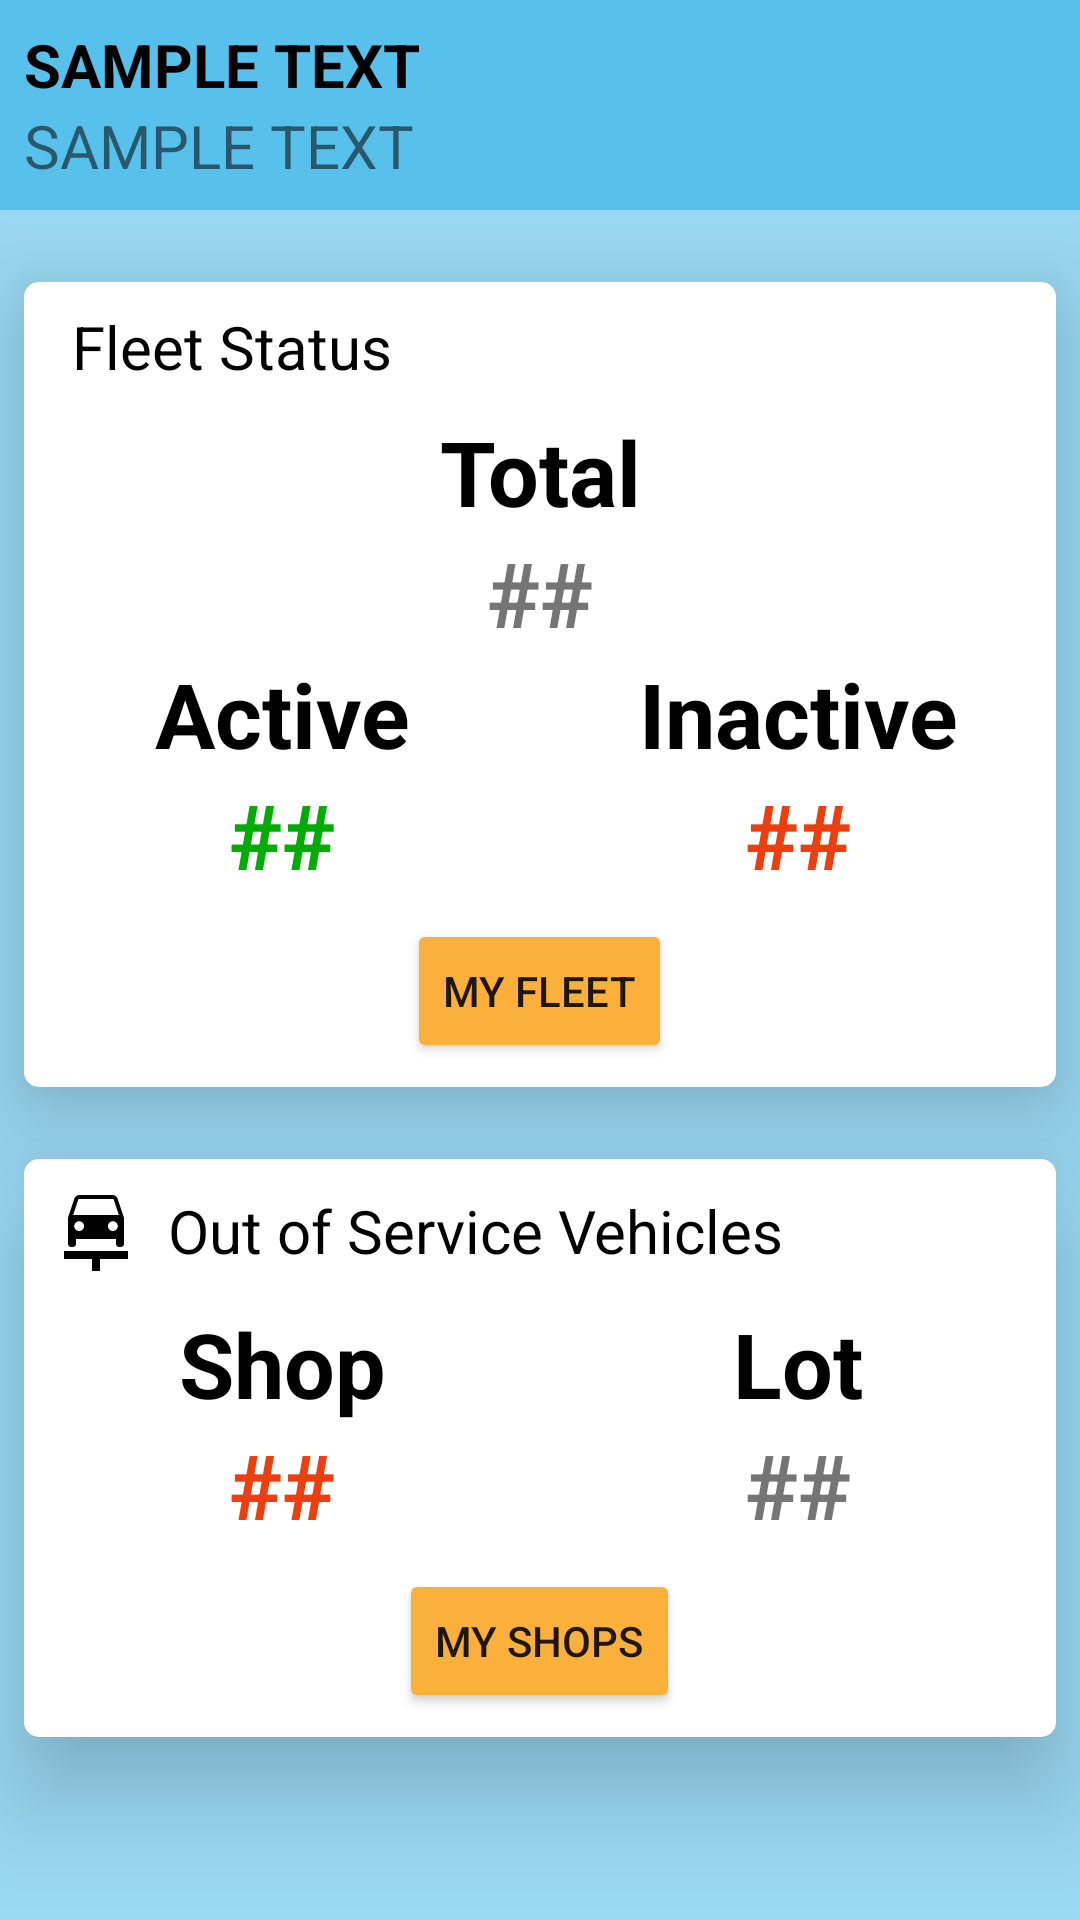

Where to tap for icons on this 1080 × 1920 app screen, as (x,y):
car repair: (96,1233)
